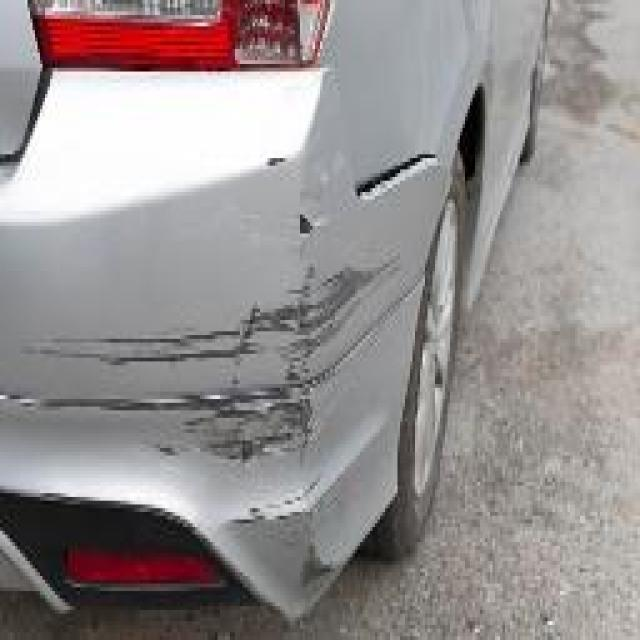Bumper: (5, 132, 415, 561)
